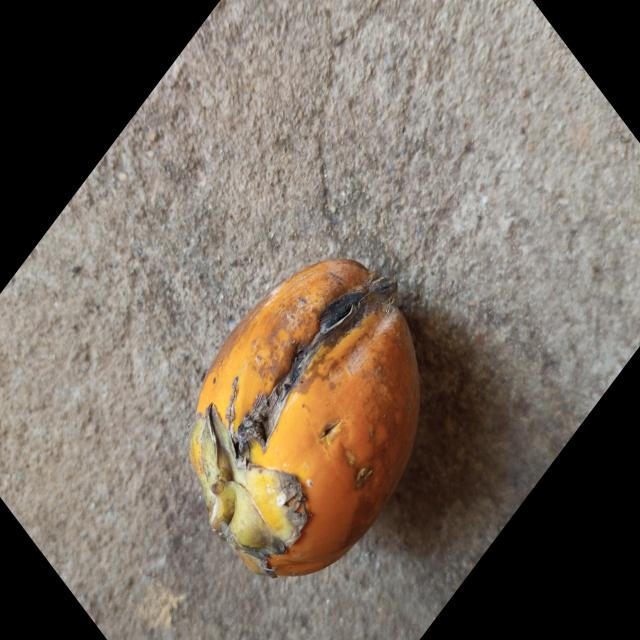damaged: (189, 259, 420, 580)
